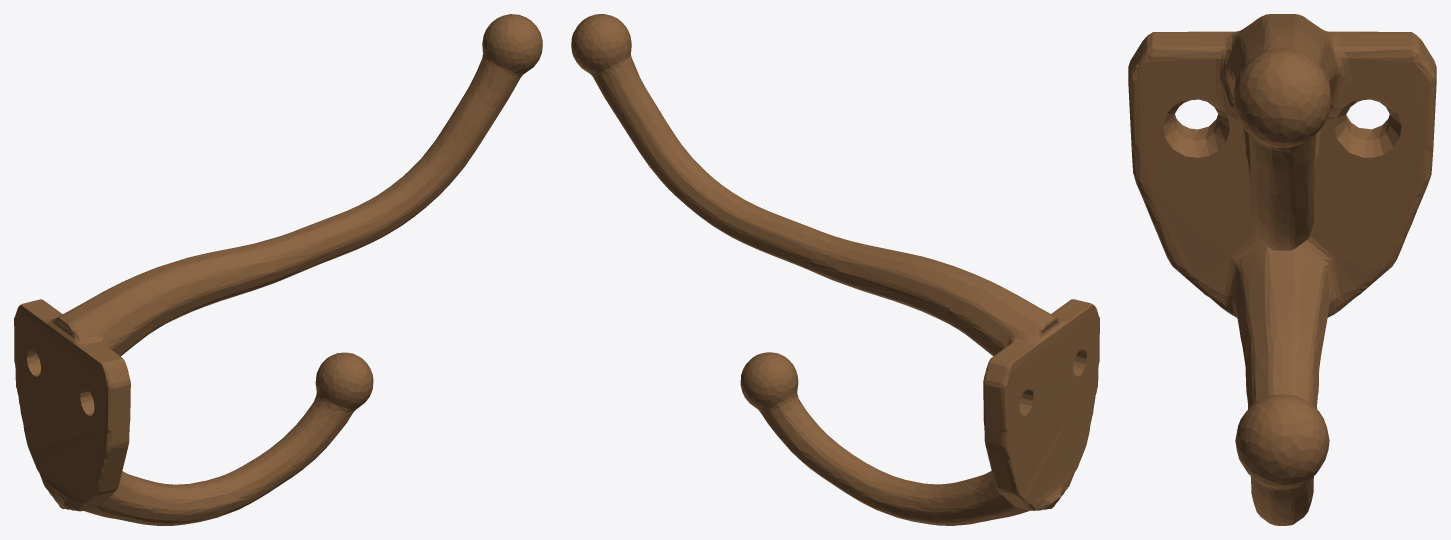
3 renders of one model, left to right at view 1: azimuth 30°, elevation 25°; view 2: azimuth 150°, elevation 25°; view 3: azimuth 270°, elevation 25°, orthographic. The views are drawn at different scales.
Visible parts, largest first — view 1: NEW547_Continuous_double_hook_casting; view 2: NEW547_Continuous_double_hook_casting; view 3: NEW547_Continuous_double_hook_casting.
Boxes of the visible parts, left/top/right/bottom form: NEW547_Continuous_double_hook_casting: left=14, top=14, right=542, bottom=525; NEW547_Continuous_double_hook_casting: left=571, top=14, right=1099, bottom=525; NEW547_Continuous_double_hook_casting: left=1128, top=14, right=1436, bottom=525.
Bounding box in the file's own units: 0.0825 × 0.0698 × 0.0286.
